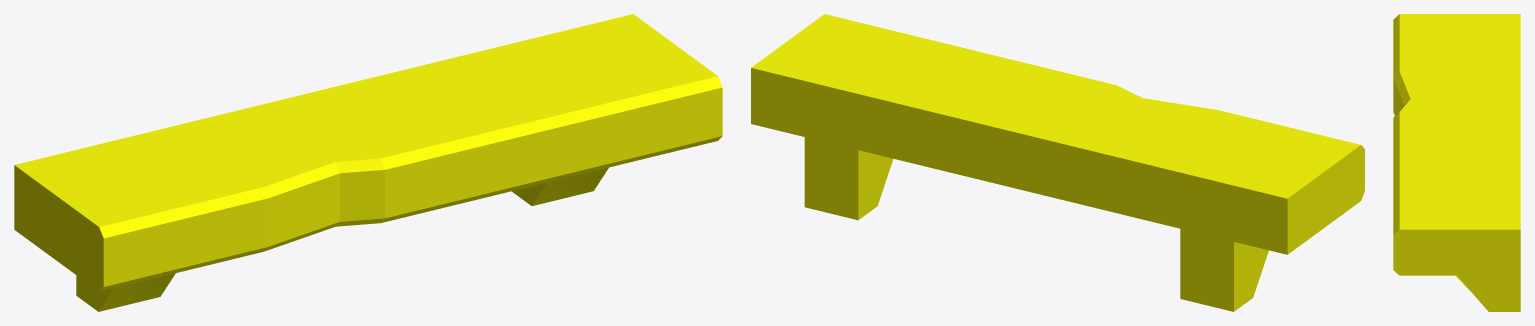
The model's file is kaykit-shelf-large.glb.
The picture shows the model from 3 angles, left to right: view 1: azimuth 30°, elevation 25°; view 2: azimuth 150°, elevation 25°; view 3: azimuth 270°, elevation 25°; orthographic projection. The views are drawn at different scales.
Visible parts, largest first — view 1: shelf_large; view 2: shelf_large; view 3: shelf_large.
Part boxes in pixels (bbox=[...]): shelf_large: bbox=[14, 14, 722, 311]; shelf_large: bbox=[751, 14, 1364, 311]; shelf_large: bbox=[1393, 14, 1520, 311].
Bounding box in the file's own units: 2 × 0.45 × 0.5001.
